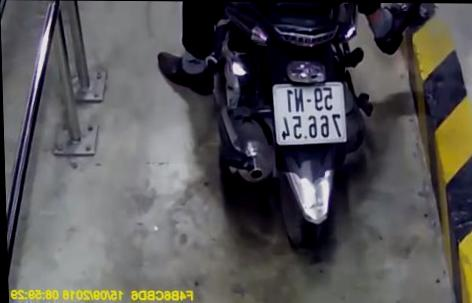License_Plate: (268, 80, 354, 153)
